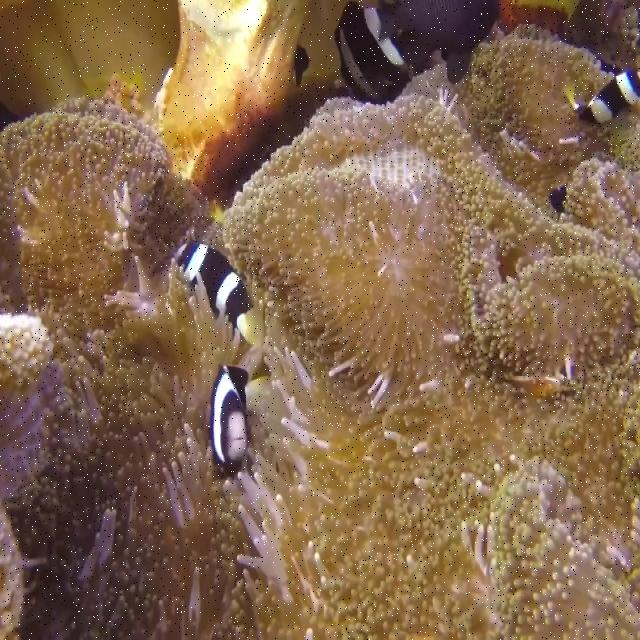fish: (380, 0, 497, 81), (333, 3, 417, 106), (172, 242, 253, 326), (205, 359, 252, 475), (561, 68, 639, 124)
